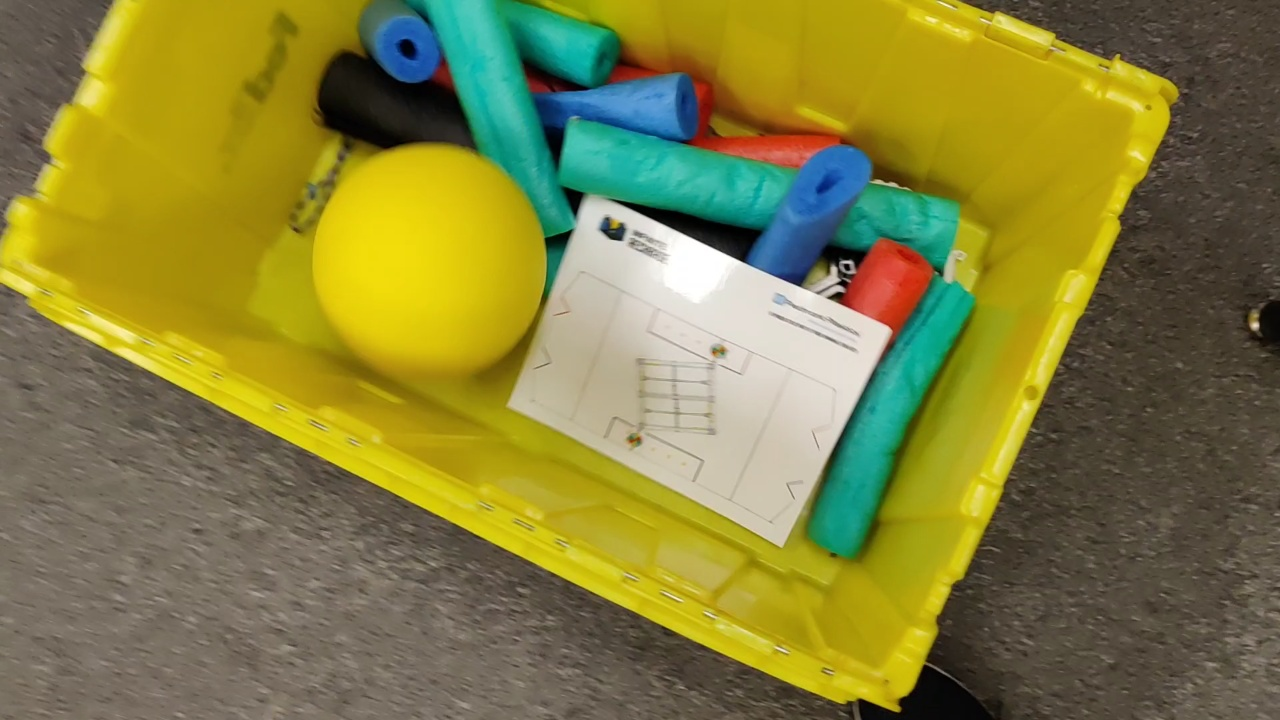Ball: (313, 142, 543, 386)
